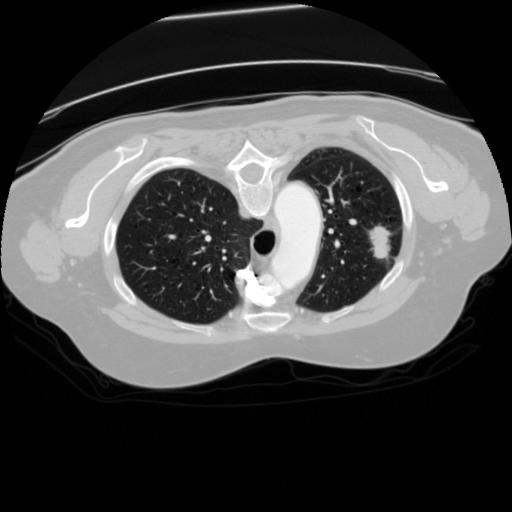nodule: (362, 225, 398, 261)
